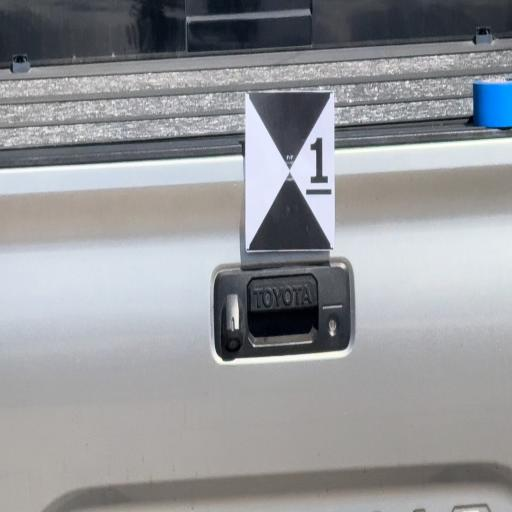target1: (246, 93, 333, 250)
